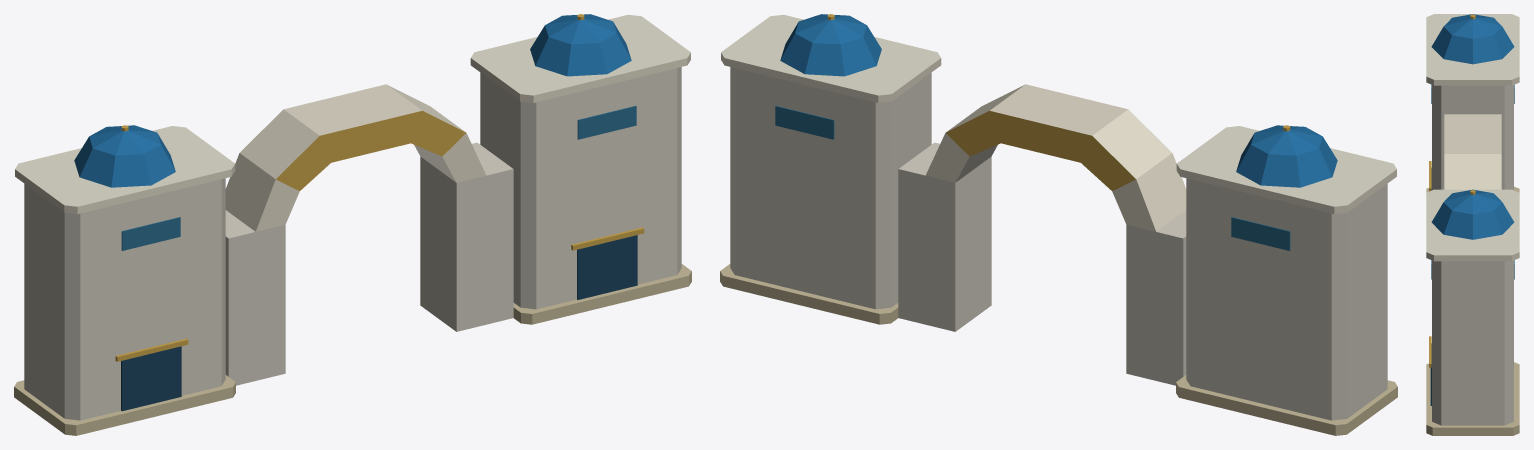
File: palace-gate.glb
3 renders of one model, left to right at view 1: azimuth 30°, elevation 25°; view 2: azimuth 150°, elevation 25°; view 3: azimuth 270°, elevation 25°, orthographic. The views are drawn at different scales.
Parts seen in each view (by area): view 1: intact_structure; view 2: intact_structure; view 3: intact_structure.
Boxes of the visible parts, x1,y1,x2,y2 form: intact_structure: (14,14,691,435); intact_structure: (720,14,1397,435); intact_structure: (1426,14,1519,435).
Bounding box in the file's own units: 22 × 9 × 3.6.
